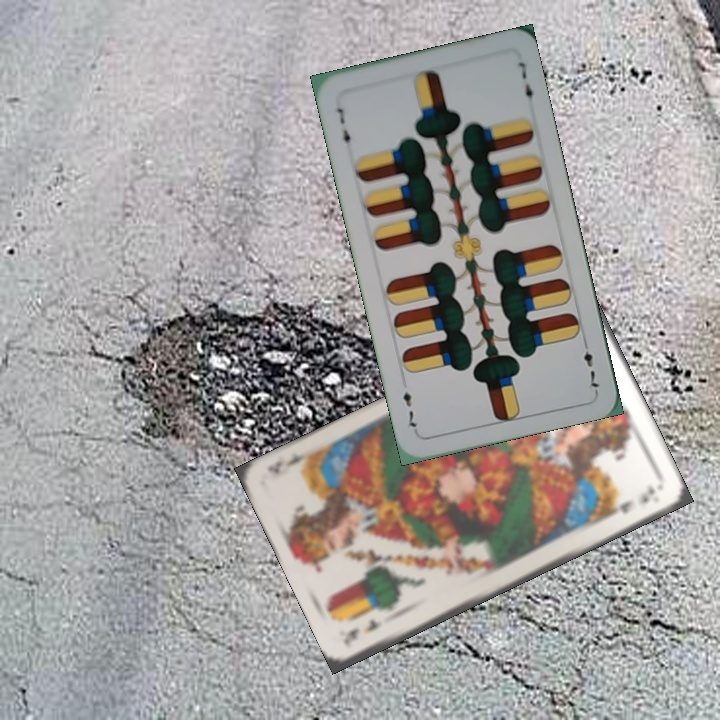E7: (578, 335, 602, 393), (332, 103, 353, 153)
EK: (342, 616, 384, 643)
